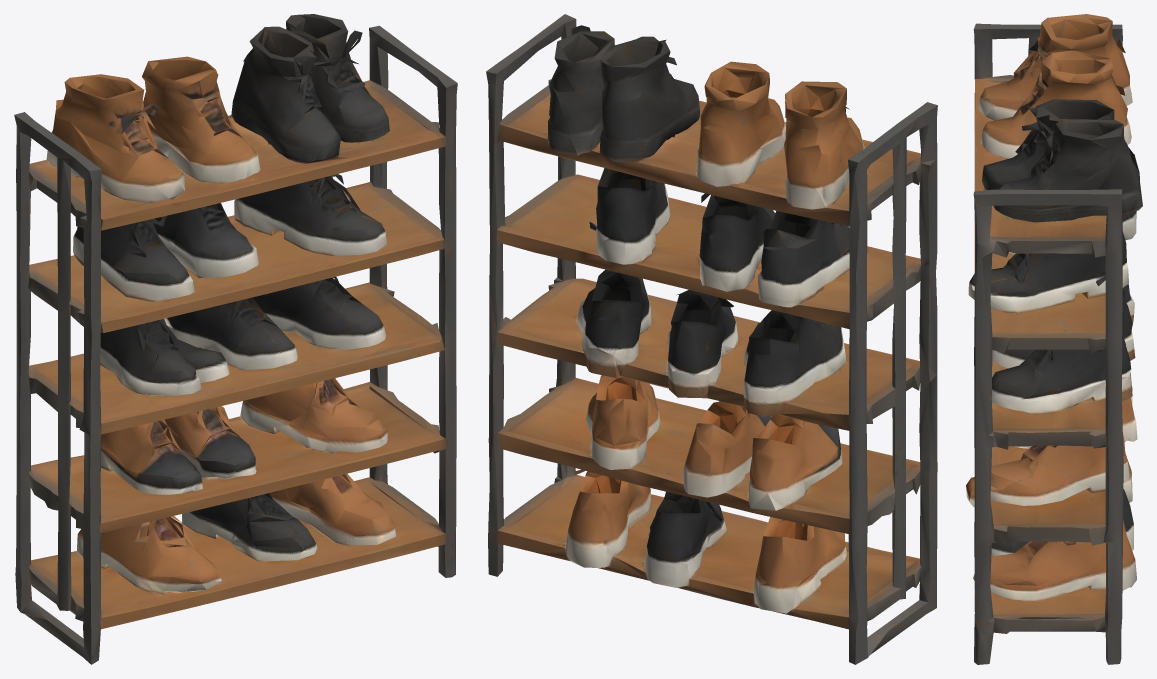
File: shoe_rack.glb
The picture shows the model from 3 angles, left to right: view 1: azimuth 30°, elevation 25°; view 2: azimuth 150°, elevation 25°; view 3: azimuth 270°, elevation 25°; orthographic projection. The views are drawn at different scales.
Visible parts, largest first — view 1: model; view 2: model; view 3: model.
Part boxes in pixels (left/top/right/bottom): model: left=14, top=14, right=457, bottom=664; model: left=486, top=14, right=937, bottom=664; model: left=966, top=14, right=1142, bottom=664.
Size of the model in its own units: 0.879 by 1.2 by 0.3822.
Materials: 1 (1 with a texture image).
